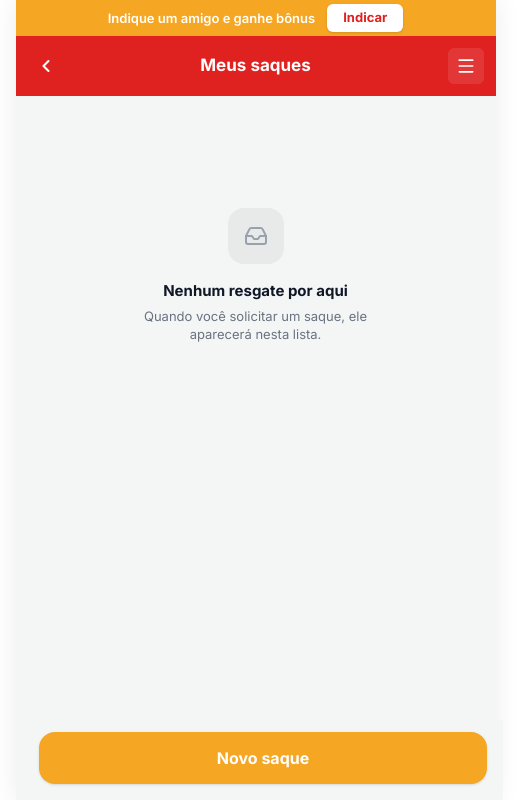
Test: Novo saque: chaves recentes › as recentes sobrevivem a fechar e abrir a tela (ficam guardadas no navegador)
Click the button "Novo saque": (263, 758) left=39, top=732, right=487, bottom=784
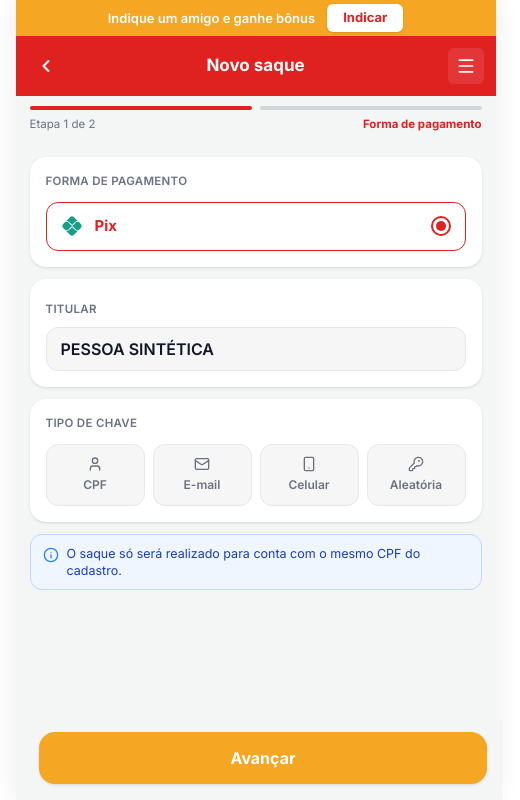
Click the radio button labelled "CPF": (95, 475) left=46, top=444, right=144, bottom=506
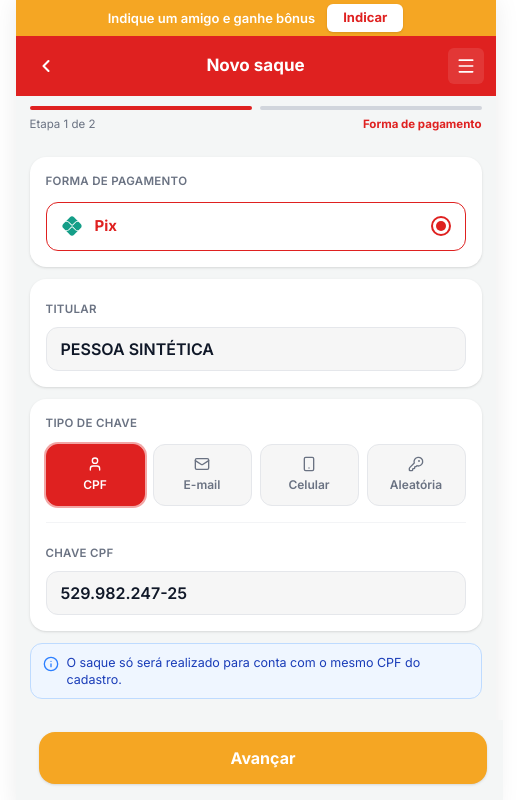
Click the button "Avançar": (263, 758) left=39, top=732, right=487, bottom=784
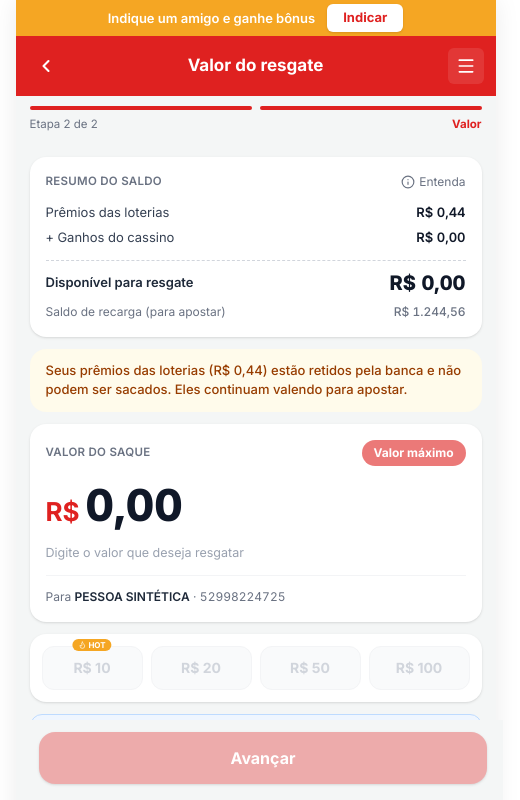
Click the button named "Voltar": (46, 66) left=28, top=48, right=64, bottom=84
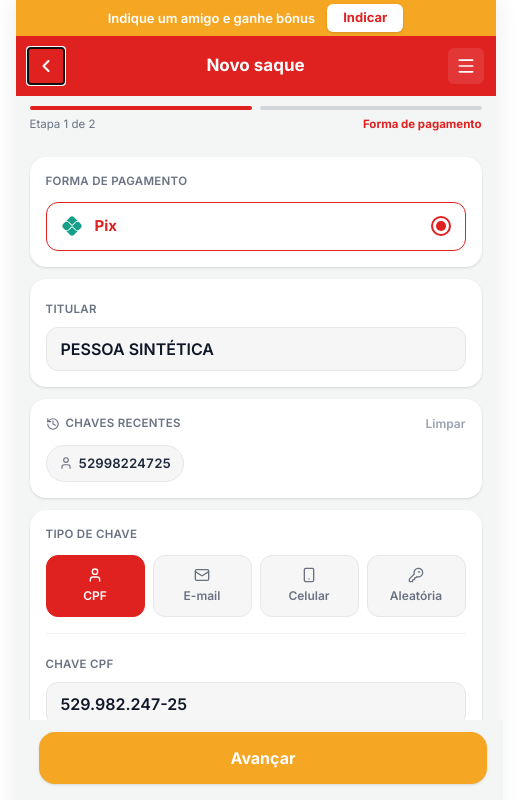
Click the button named "Voltar": (46, 66) left=28, top=48, right=64, bottom=84
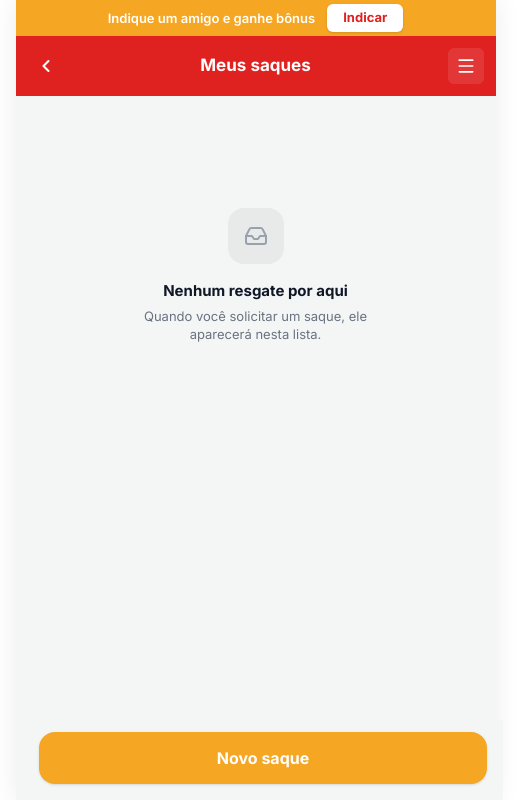
Click the button "Novo saque": (263, 758) left=39, top=732, right=487, bottom=784
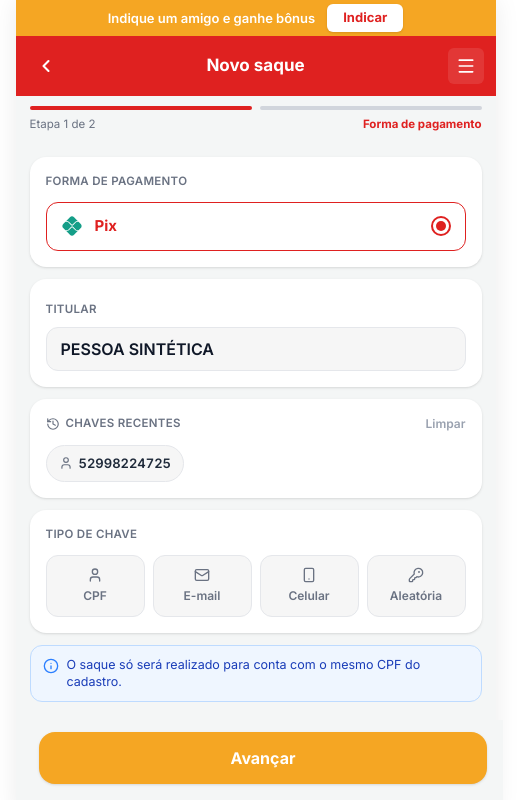
Expected: the button named "Usar chave CPF" is shown, left=46, top=444, right=184, bottom=482
